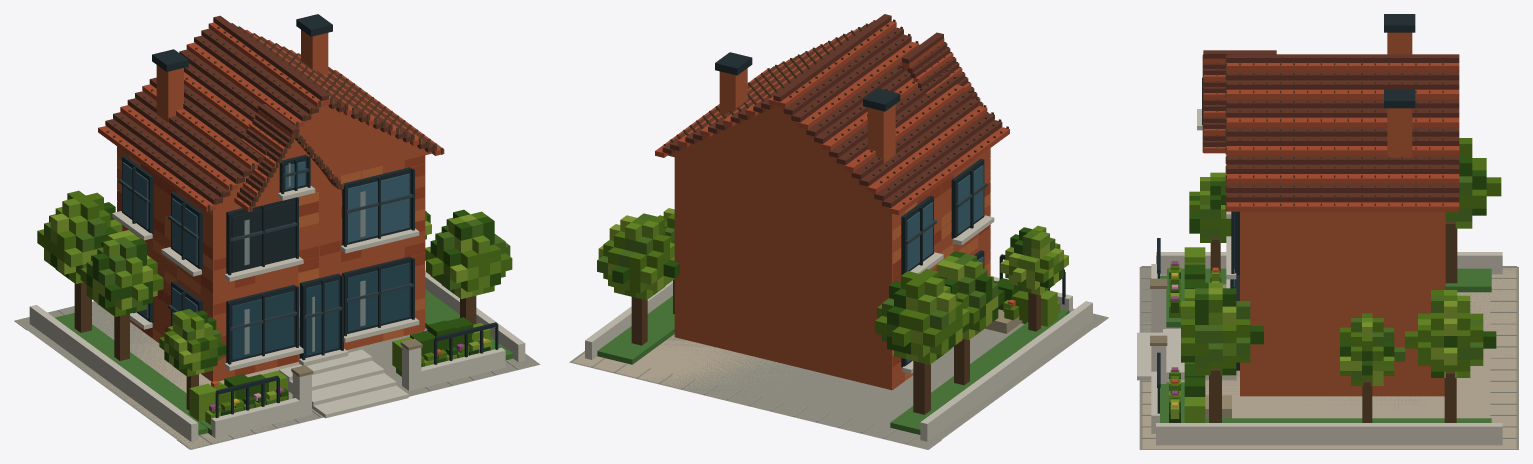
File: SM_Mapa_016.fbx
3 views of the same model, side by side, from view 1: azimuth 30°, elevation 25°; view 2: azimuth 150°, elevation 25°; view 3: azimuth 270°, elevation 25° (orthographic). The views are drawn at different scales.
Parts seen in each view (by area): view 1: SM_Mapa_016; view 2: SM_Mapa_016; view 3: SM_Mapa_016.
Part boxes in pixels (x1,y1,x2,y2): SM_Mapa_016: (14, 14, 540, 449); SM_Mapa_016: (569, 14, 1108, 449); SM_Mapa_016: (1137, 14, 1518, 449).
Bounding box in the file's own units: 8 × 7 × 6.12.
